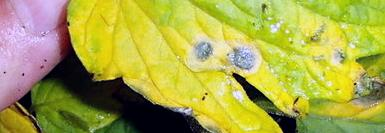Tomato Early blight leaf: (71, 0, 385, 133)
